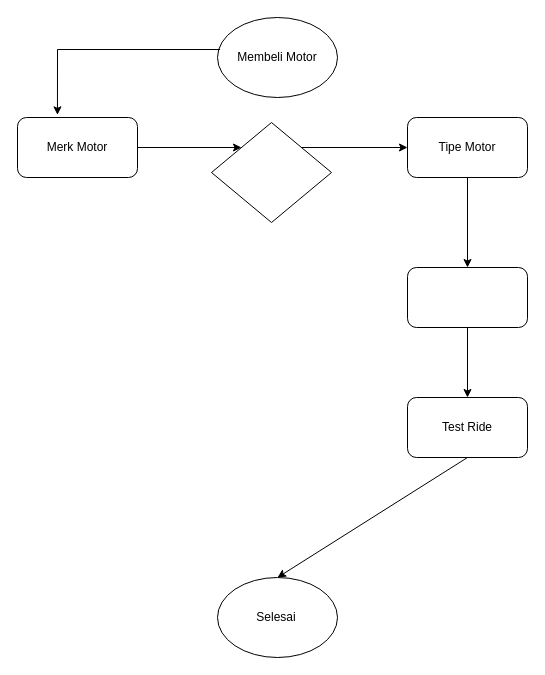
Image size: 545x675. Some labels were removed from this diagram. The centre of each missing label's shape, as x and y in pixels:
"Anggaran" belongs at (271,172).
"Spesifikasi Motor" belongs at (467,297).
